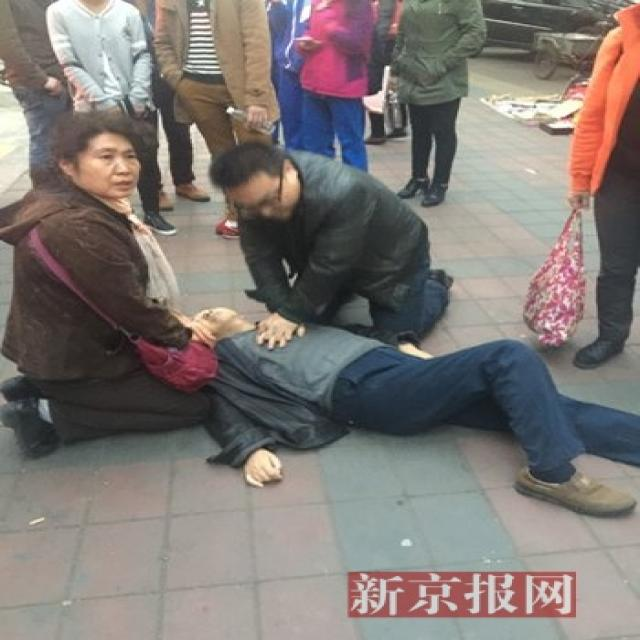10-: (0, 0, 629, 472)
down: (176, 296, 638, 529)
